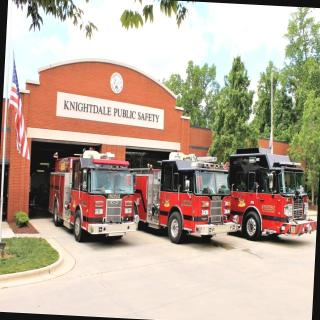Fire_truck: (126, 149, 244, 247), (47, 144, 143, 246), (222, 145, 319, 244)
